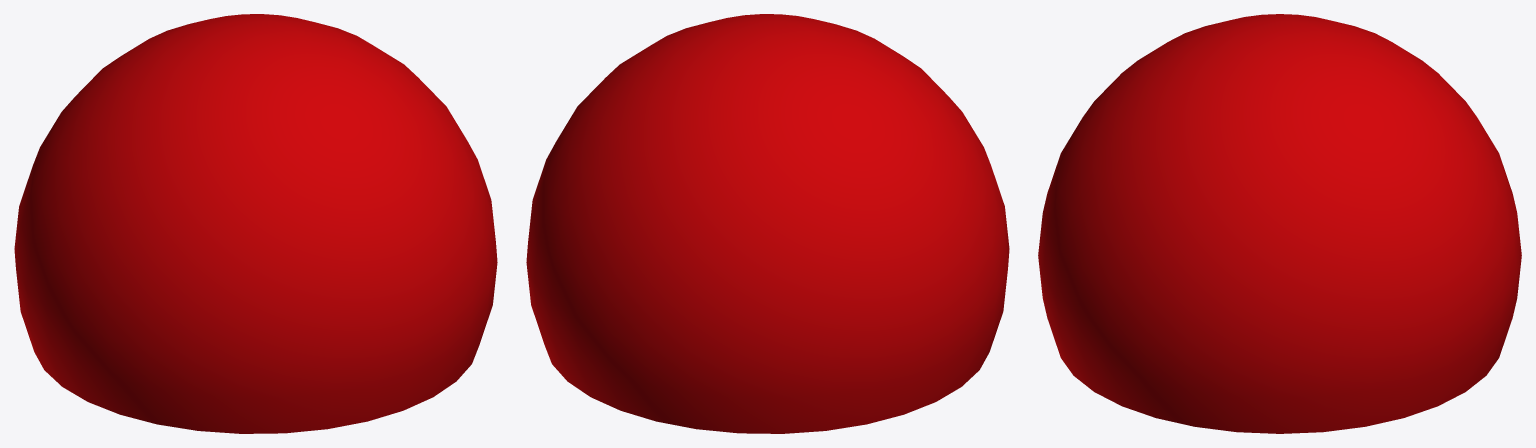
File: antenaCap.obj
3 views of the same model, side by side, from view 1: azimuth 30°, elevation 25°; view 2: azimuth 150°, elevation 25°; view 3: azimuth 270°, elevation 25° (orthographic).
Visible parts, largest first — view 1: antenaCap_Sphere.010; view 2: antenaCap_Sphere.010; view 3: antenaCap_Sphere.010.
Boxes of the visible parts, left/top/right/bottom form: antenaCap_Sphere.010: left=14, top=14, right=497, bottom=433; antenaCap_Sphere.010: left=526, top=14, right=1009, bottom=433; antenaCap_Sphere.010: left=1038, top=14, right=1521, bottom=433.
Bounding box in the file's own units: 0.0162 × 0.0112 × 0.0162.
